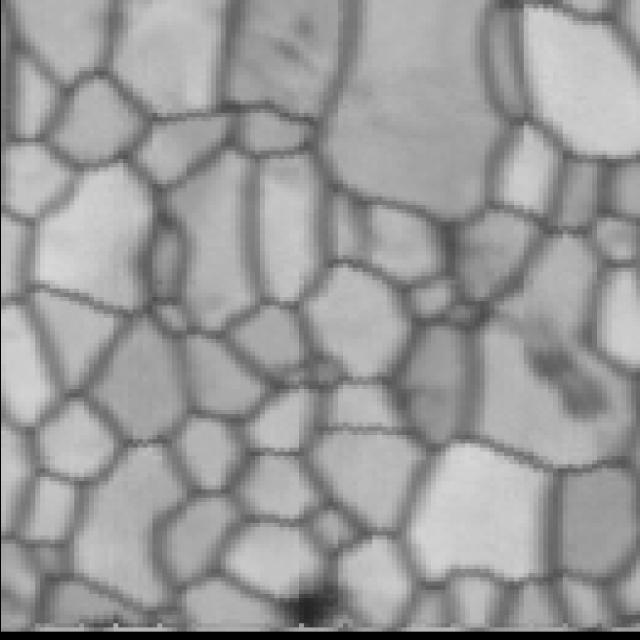good_void: (497, 334, 624, 422), (264, 574, 368, 629), (258, 30, 313, 68), (286, 18, 318, 42)
